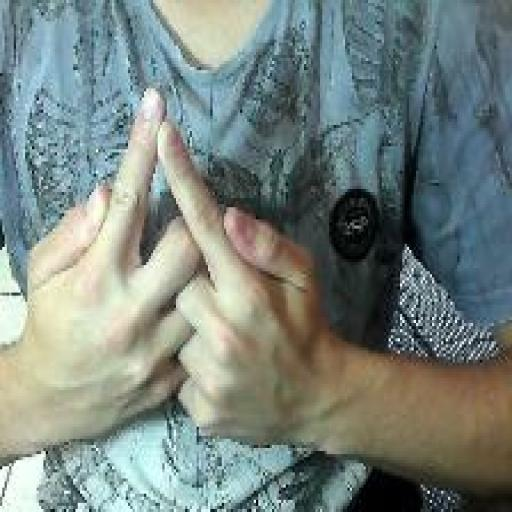Uma -horse-: (24, 82, 330, 454)
